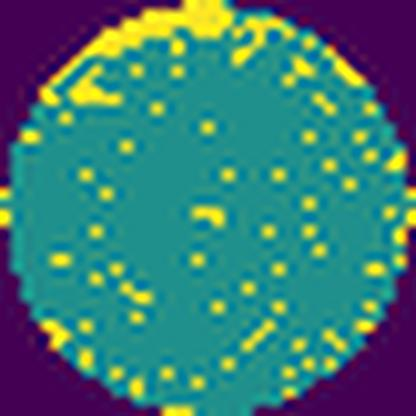Edge-Loc: (40, 0, 240, 116)
